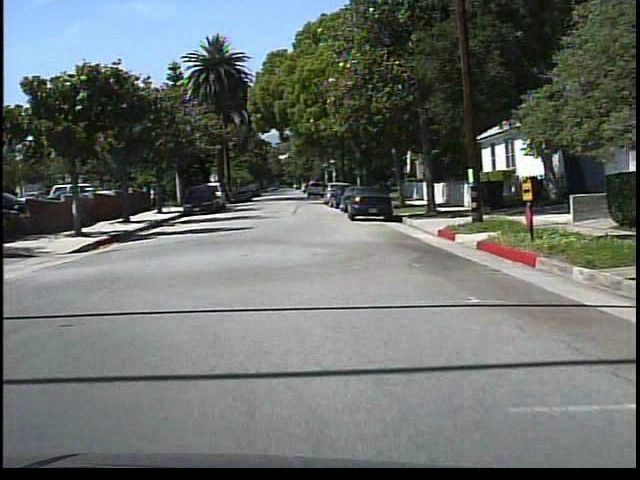person: (146, 183, 160, 212)
